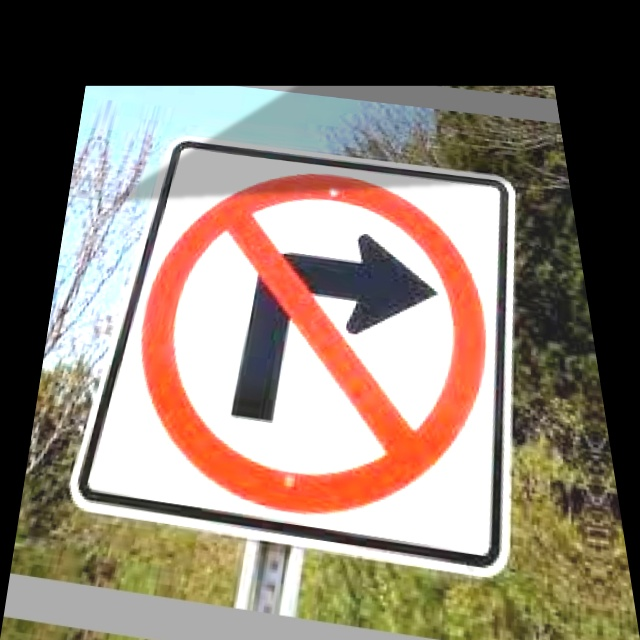Right_Turn_Prohibited: (95, 140, 538, 540)
